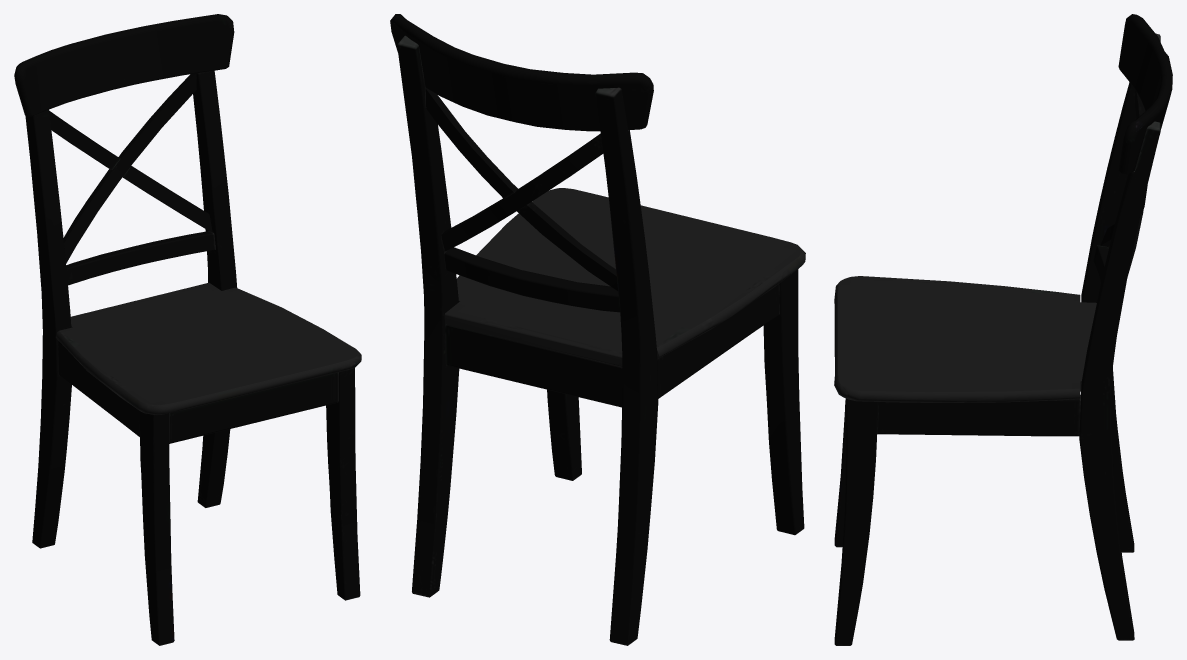
Rendered from 26 - ROSENTORP Chair - black.glb.
The picture shows the model from 3 angles, left to right: view 1: azimuth 30°, elevation 25°; view 2: azimuth 150°, elevation 25°; view 3: azimuth 270°, elevation 25°; orthographic projection. The views are drawn at different scales.
Parts seen in each view (by area): view 1: ASY_ART_00570000_S01_NV01; view 2: ASY_ART_00570000_S01_NV01; view 3: ASY_ART_00570000_S01_NV01.
Part boxes in pixels (box(x1,y1,x2,y2)): ASY_ART_00570000_S01_NV01: box(14, 14, 361, 645); ASY_ART_00570000_S01_NV01: box(390, 14, 805, 645); ASY_ART_00570000_S01_NV01: box(834, 14, 1172, 645).
Bounding box in the file's own units: 0.4382 × 0.9106 × 0.5319.
Materials: 1 (1 with a texture image).
